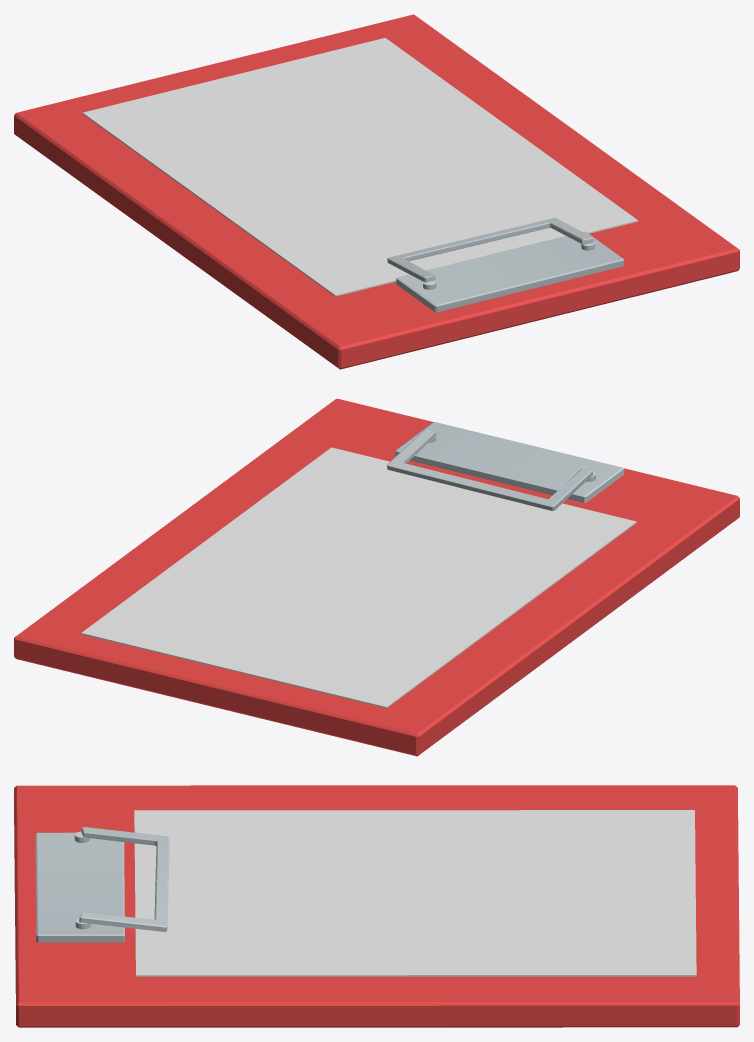
Rendered from Clipboard.fbx.
The picture shows the model from 3 angles, top to bottom: view 1: azimuth 30°, elevation 25°; view 2: azimuth 150°, elevation 25°; view 3: azimuth 270°, elevation 25°; orthographic projection. The views are drawn at different scales.
Parts seen in each view (by area): view 1: Clipboard:Clipboard:pCylinder3; view 2: Clipboard:Clipboard:pCylinder3; view 3: Clipboard:Clipboard:pCylinder3.
Boxes of the visible parts, box(x1,y1,x2,y2) form: Clipboard:Clipboard:pCylinder3: box(14, 14, 739, 369); Clipboard:Clipboard:pCylinder3: box(14, 398, 739, 756); Clipboard:Clipboard:pCylinder3: box(14, 785, 739, 1027).
Bounding box in the file's own units: 0.2985 × 0.0304 × 0.4147.
